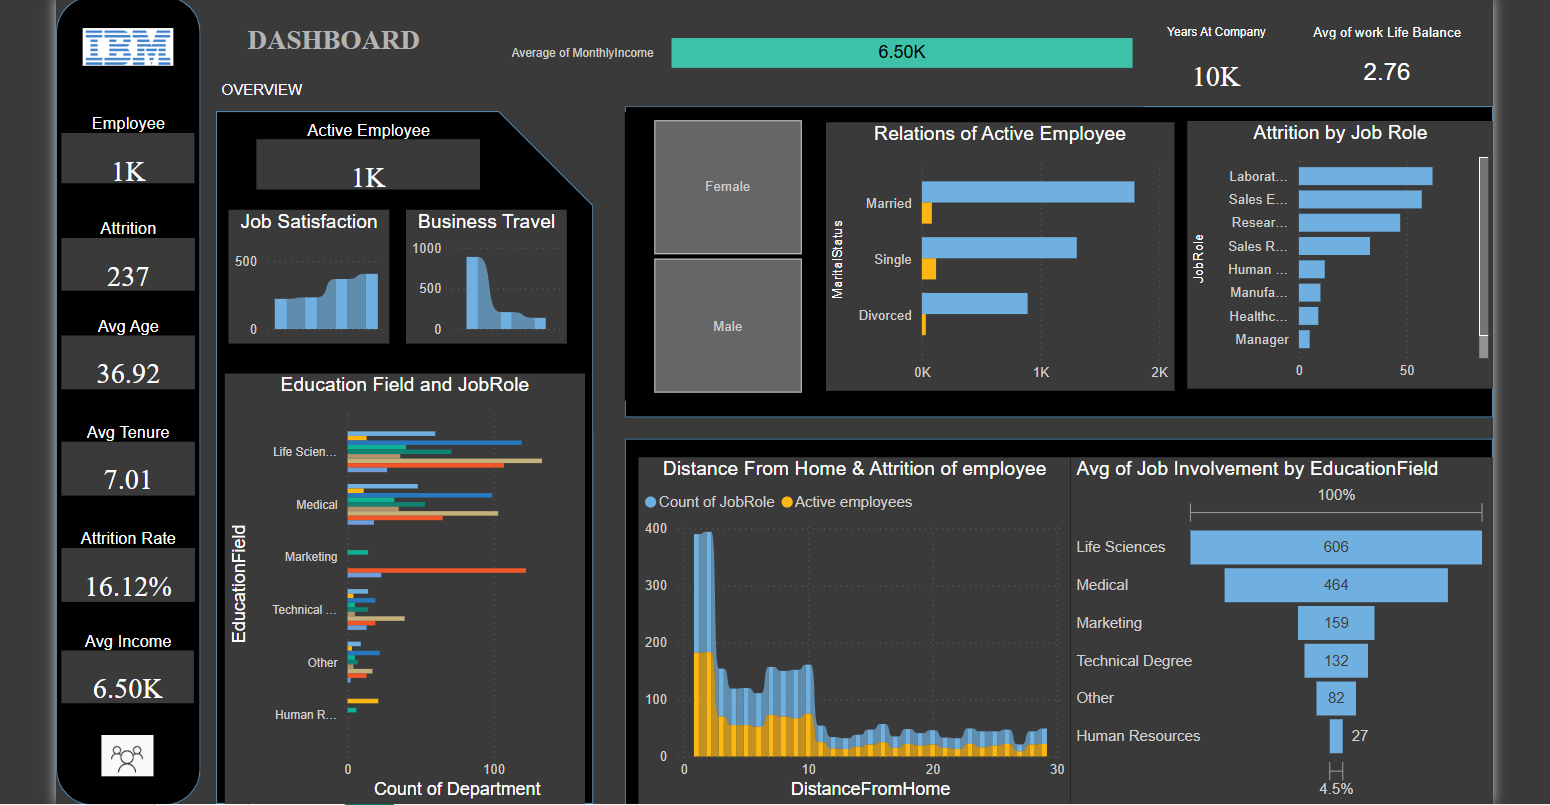

Layout of this report page (visuals, bound fields, positions):
{"tool":"powerbi","page":{"name":"Page 1","canvas":[1280,720],"ordinal":0},"visuals":[{"type":"shape","box":[0,0,129,720.4],"z":0},{"type":"shape","box":[142.7,102.9,336.2,617.5],"z":1000},{"type":"image","box":[18.6,13.6,90.6,64.5],"z":2000},{"type":"cardVisual","title":"Employee","fields":{"Data":["Sum(HR-Employee-Attrition.EmployeeCount)"]},"box":[0,98,129,70.7],"z":3000},{"type":"cardVisual","title":"Active Employee","fields":{"Data":["HR-Employee-Attrition.Active employees"]},"box":[173.7,103.8,209.9,70],"z":4000},{"type":"cardVisual","title":"Attrition","fields":{"Data":["Sum(HR-Employee-Attrition.AttritionCount)"]},"box":[0,191,129,72],"z":5000},{"type":"cardVisual","title":"Avg Age","fields":{"Data":["Avg(HR-Employee-Attrition.Age)"]},"box":[0,277.9,129,73.2],"z":6000},{"type":"cardVisual","title":"Attrition Rate","fields":{"Data":["HR-Employee-Attrition.AttritionRate"]},"box":[0,467.7,129,73.2],"z":7000},{"type":"cardVisual","title":"Avg Income","fields":{"Data":["Avg(HR-Employee-Attrition.MonthlyIncome)"]},"box":[0,558.5,129,72.7],"z":8000},{"type":"image","box":[35.7,650.4,56.3,52.1],"z":9000},{"type":"cardVisual","title":"Avg Tenure","fields":{"Data":["Avg(HR-Employee-Attrition.YearsAtCompany)"]},"box":[0,373.4,129,73.2],"z":10000},{"type":"ribbonChart","title":"Job Satisfaction","fields":{"Y":["HR-Employee-Attrition.Active employees"],"Category":["HR-Employee-Attrition.JobSatisfaction"]},"box":[153.2,190.6,143.6,119.4],"z":11000},{"type":"ribbonChart","title":"Business Travel","fields":{"Y":["HR-Employee-Attrition.Active employees"],"Category":["HR-Employee-Attrition.BusinessTravel"]},"box":[311.3,190.6,143.6,119.4],"z":12000},{"type":"clusteredBarChart","title":"Education Field and JobRole","fields":{"Y":["CountNonNull(HR-Employee-Attrition.Department)"],"Series":["HR-Employee-Attrition.JobRole"],"Category":["HR-Employee-Attrition.EducationField"]},"box":[150.8,336.6,320.9,383.6],"z":13000},{"type":"shape","box":[506.7,97.7,773.3,277.5],"z":14000},{"type":"shape","box":[506.6,393.6,773.6,326.6],"z":15000},{"type":"slicer","title":"Job Satisfaction","fields":{"Values":["HR-Employee-Attrition.Gender"]},"box":[506.1,103.7,181.5,257],"z":16000},{"type":"clusteredBarChart","title":"Relations of Active Employee","fields":{"Category":["HR-Employee-Attrition.MaritalStatus"],"Y":["Sum(HR-Employee-Attrition.RelationshipSatisfaction)","Sum(HR-Employee-Attrition.AttritionCount)"]},"box":[685.3,112.2,310.1,238.9],"z":17000},{"type":"ribbonChart","title":"Distance From Home & Attrition of employee","fields":{"Category":["HR-Employee-Attrition.DistanceFromHome"],"Y":["CountNonNull(HR-Employee-Attrition.JobRole)","HR-Employee-Attrition.Active employees"]},"box":[519.1,411,384.9,309.2],"z":18000},{"type":"clusteredBarChart","title":"Attrition by Job Role","fields":{"Y":["Sum(HR-Employee-Attrition.AttritionCount)"],"Category":["HR-Employee-Attrition.JobRole"]},"box":[1007.1,111.8,273.2,238.4],"z":19000},{"type":"funnel","title":"Avg Monthly Income","fields":{"Y":["Avg(HR-Employee-Attrition.MonthlyIncome)"]},"box":[400.7,0,568.2,98],"z":20000},{"type":"funnel","title":"Avg of Job Involvement by EducationField","fields":{"Category":["HR-Employee-Attrition.EducationField"],"Y":["CountNonNull(HR-Employee-Attrition.JobRole)"]},"box":[904,411,376.3,309.2],"z":21000},{"type":"cardVisual","title":"Years At Company","fields":{"Data":["Sum(HR-Employee-Attrition.YearsAtCompany)"]},"box":[975.1,18.6,116.6,72],"z":22000},{"type":"card","title":"Avg of work Life Balance","fields":{"Values":["Avg(HR-Employee-Attrition.WorkLifeBalance)"]},"box":[1091.8,18.1,187,72.4],"z":23000},{"type":"textbox","box":[142.7,21.1,209.7,57.1],"z":24000},{"type":"textbox","box":[142.4,71.2,125.5,31.4],"z":25000}]}

Visuals, with their boxes on the page's 1280x720 design canvas (x1, y1, x2, y2). These are canvas units, not pixel positions in the 1550x805 screenshot, which may show the page scaled, cropped or inside an application window:
shape: rect(0, 0, 129, 720)
shape: rect(143, 103, 479, 720)
image: rect(19, 14, 109, 78)
"Employee" cardVisual: rect(0, 98, 129, 169)
"Active Employee" cardVisual: rect(174, 104, 384, 174)
"Attrition" cardVisual: rect(0, 191, 129, 263)
"Avg Age" cardVisual: rect(0, 278, 129, 351)
"Attrition Rate" cardVisual: rect(0, 468, 129, 541)
"Avg Income" cardVisual: rect(0, 558, 129, 631)
image: rect(36, 650, 92, 702)
"Avg Tenure" cardVisual: rect(0, 373, 129, 447)
"Job Satisfaction" ribbonChart: rect(153, 191, 297, 310)
"Business Travel" ribbonChart: rect(311, 191, 455, 310)
"Education Field and JobRole" clusteredBarChart: rect(151, 337, 472, 720)
shape: rect(507, 98, 1280, 375)
shape: rect(507, 394, 1280, 720)
"Job Satisfaction" slicer: rect(506, 104, 688, 361)
"Relations of Active Employee" clusteredBarChart: rect(685, 112, 995, 351)
"Distance From Home & Attrition of employee" ribbonChart: rect(519, 411, 904, 720)
"Attrition by Job Role" clusteredBarChart: rect(1007, 112, 1280, 350)
"Avg Monthly Income" funnel: rect(401, 0, 969, 98)
"Avg of Job Involvement by EducationField" funnel: rect(904, 411, 1280, 720)
"Years At Company" cardVisual: rect(975, 19, 1092, 91)
"Avg of work Life Balance" card: rect(1092, 18, 1279, 90)
textbox: rect(143, 21, 352, 78)
textbox: rect(142, 71, 268, 103)
